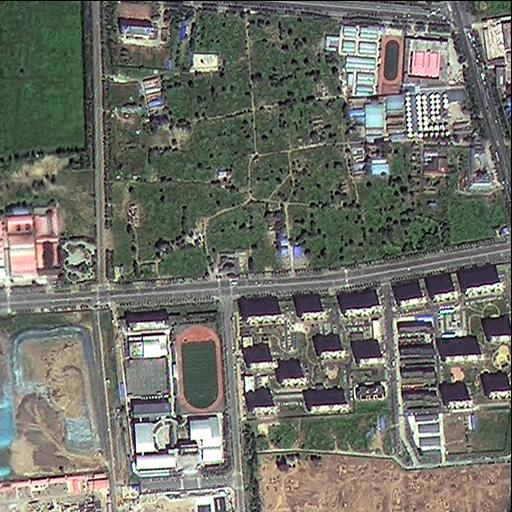school: (111, 301, 231, 483), (321, 19, 408, 100)
